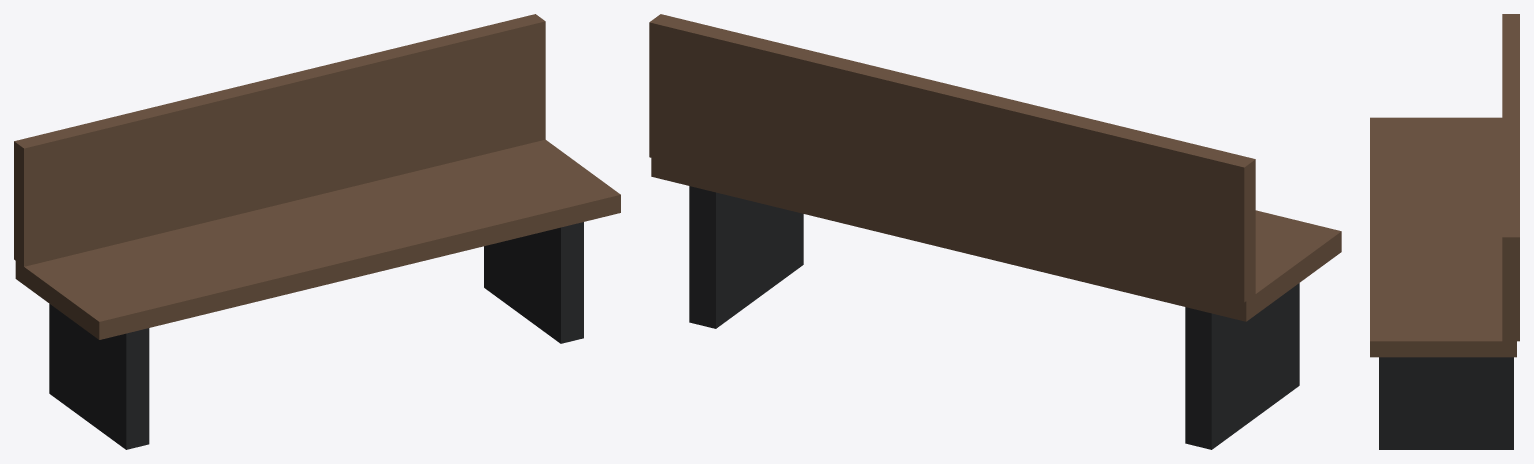
File: bench.glb
3 renders of one model, left to right at view 1: azimuth 30°, elevation 25°; view 2: azimuth 150°, elevation 25°; view 3: azimuth 270°, elevation 25°, orthographic. The views are drawn at different scales.
Visible parts, largest first — view 1: bench; view 2: bench; view 3: bench.
Boxes of the visible parts, x1,y1,x2,y2 form: bench: (14, 14, 620, 449); bench: (649, 14, 1341, 449); bench: (1370, 14, 1519, 449).
Bounding box in the file's own units: 1.8 × 0.85 × 0.51.
